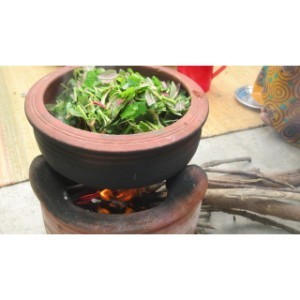spinach_brain food: (43, 74, 192, 137)
